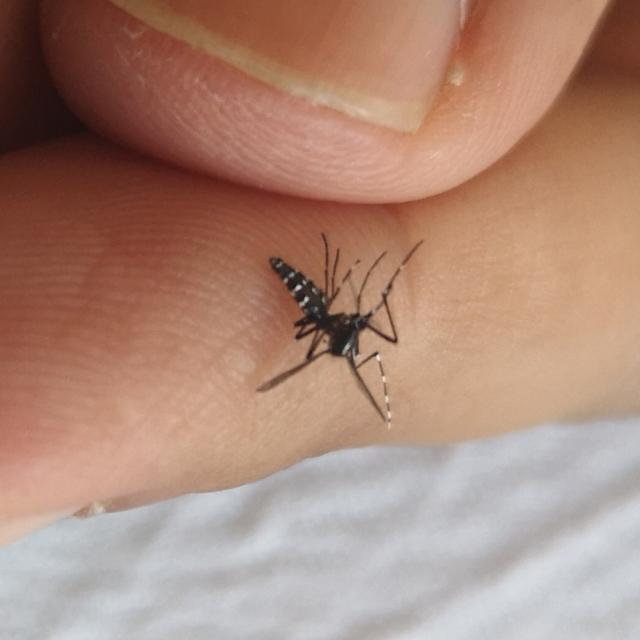albopictus: (252, 222, 432, 430)
